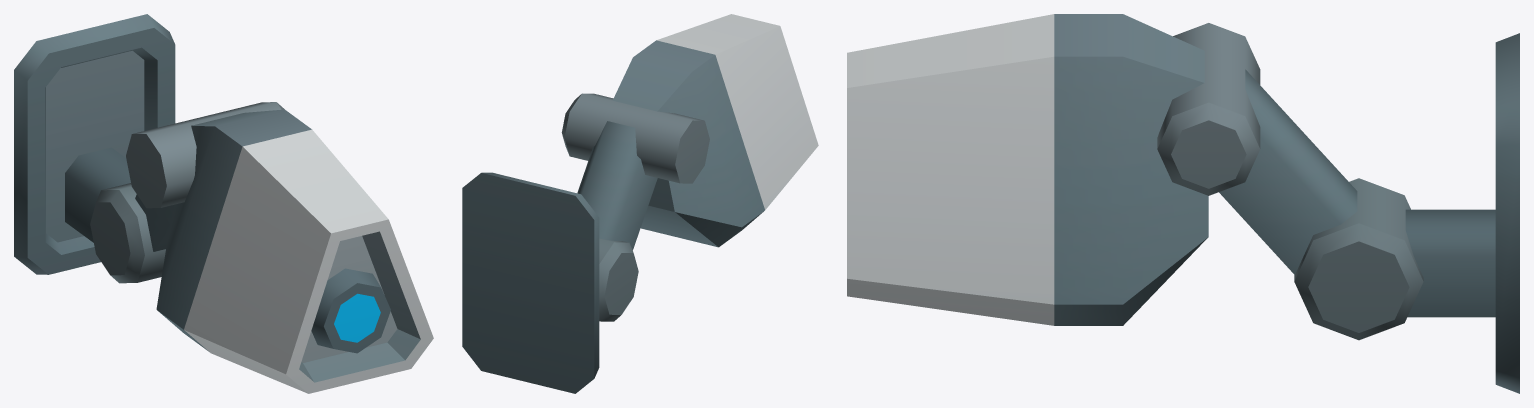
File: Security_cam_005.glb
3 views of the same model, side by side, from view 1: azimuth 30°, elevation 25°; view 2: azimuth 150°, elevation 25°; view 3: azimuth 270°, elevation 25° (orthographic). The views are drawn at different scales.
Parts seen in each view (by area): view 1: Security_cam_005; view 2: Security_cam_005; view 3: Security_cam_005.
Part boxes in pixels (x1,y1,x2,y2): Security_cam_005: (14,14,433,393); Security_cam_005: (462,14,818,393); Security_cam_005: (847,14,1519,393).
Size of the model in its own units: 0.2057 by 0.2718 by 0.5105.
2 materials, 2 textured.
